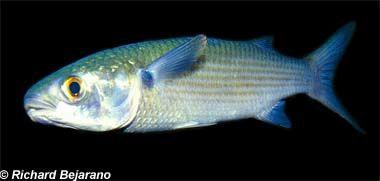Mullet: (24, 20, 373, 143)
